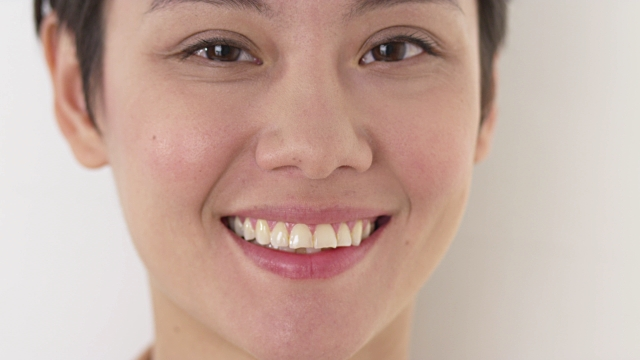happy: (107, 11, 492, 359)
